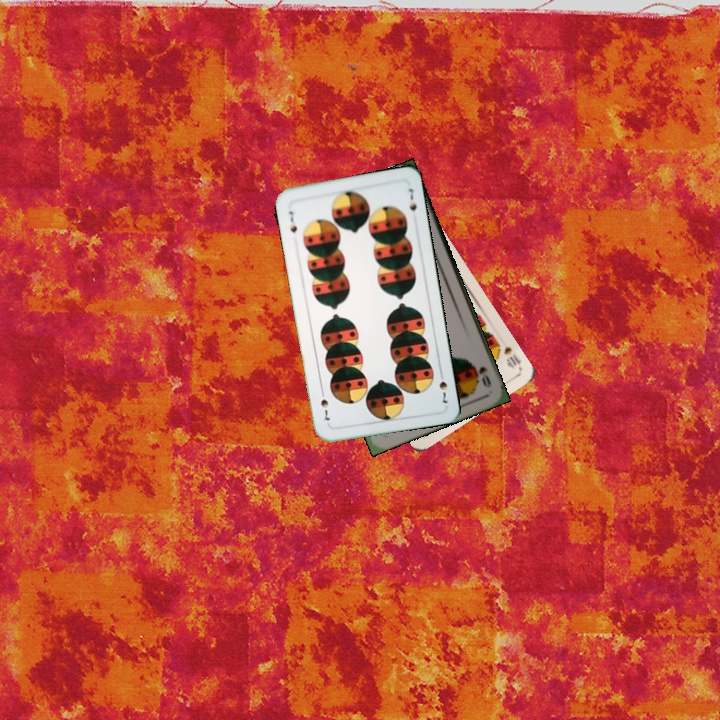S10: (499, 342, 524, 371)
S7: (435, 367, 450, 406), (285, 207, 300, 235)
SO: (470, 361, 494, 391)
